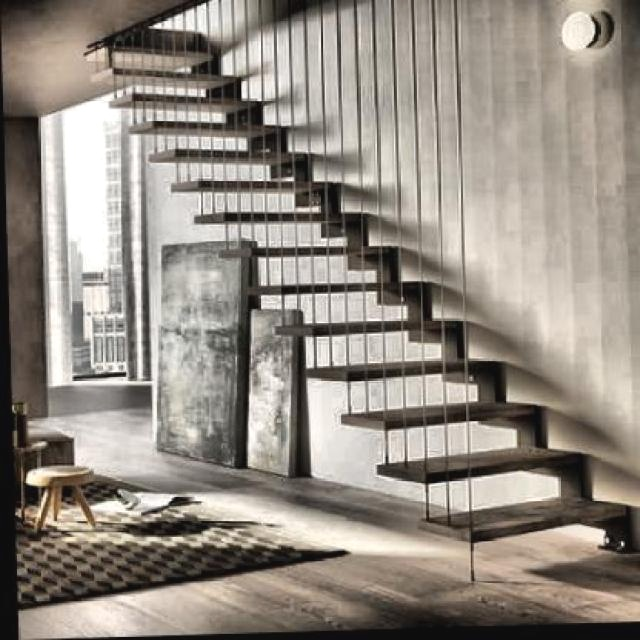stair: (266, 157, 626, 531)
